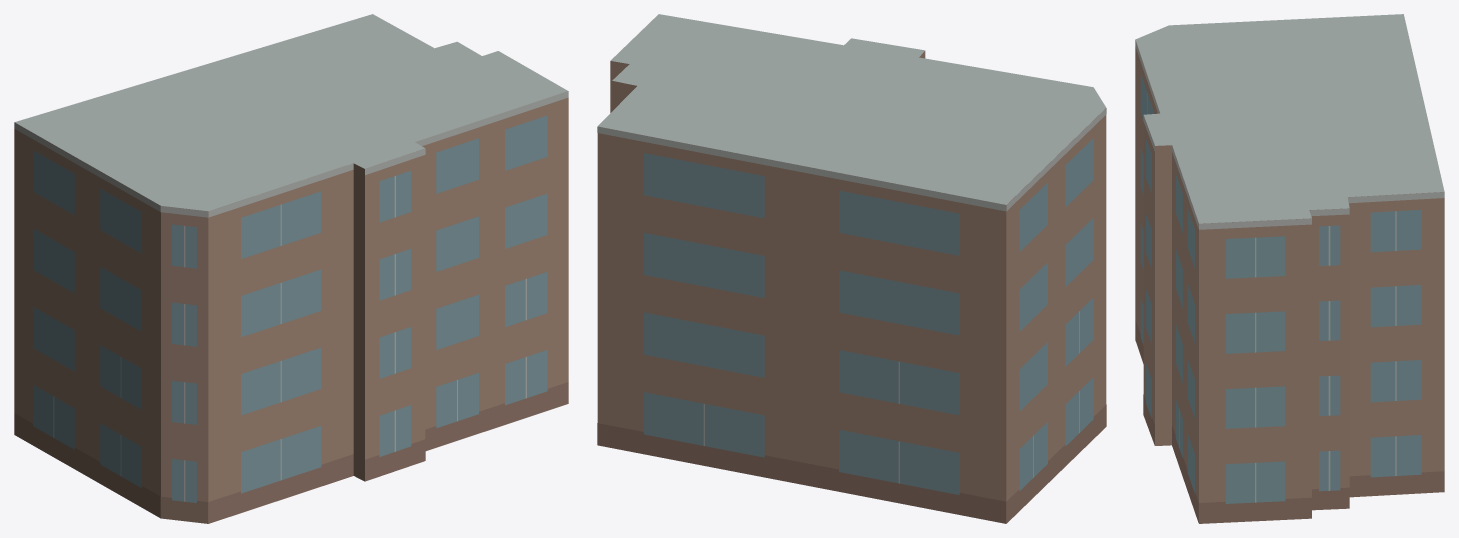
File: survey-upis-32676311.glb
3 views of the same model, side by side, from view 1: azimuth 30°, elevation 25°; view 2: azimuth 150°, elevation 25°; view 3: azimuth 270°, elevation 25° (orthographic). The views are drawn at different scales.
Visible parts, largest first — view 1: survey-upis-32676311.tmp; view 2: survey-upis-32676311.tmp; view 3: survey-upis-32676311.tmp.
Part boxes in pixels (box(x1,y1,x2,y2)): survey-upis-32676311.tmp: box(14, 14, 568, 523); survey-upis-32676311.tmp: box(597, 14, 1106, 523); survey-upis-32676311.tmp: box(1135, 14, 1444, 523).
Bounding box in the file's own units: 17.83 × 11.9 × 11.12.
